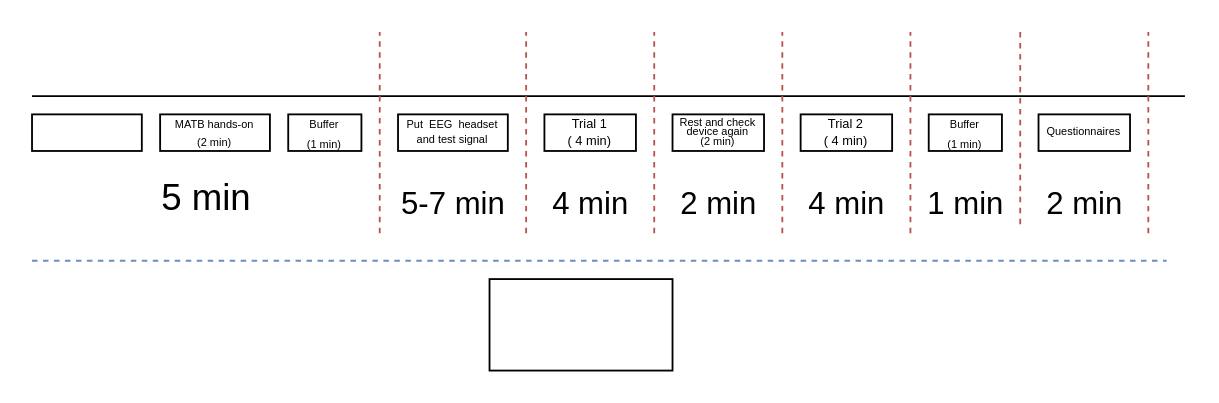
The diagram is 1219 pixels wide and 403 high, and some of its shapes have lost their labels. The box of each missing label's shape, as (x1, y1, x2, y2) in pixels:
MATB demo (2 min): (30, 113, 142, 151)
TOTAL TIME - 25- 30 min: (488, 277, 673, 371)
